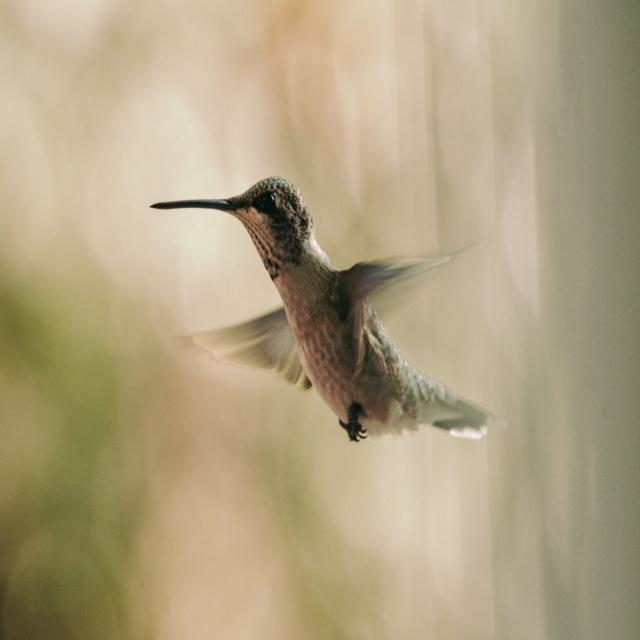Humming Bird: (146, 172, 486, 452)
